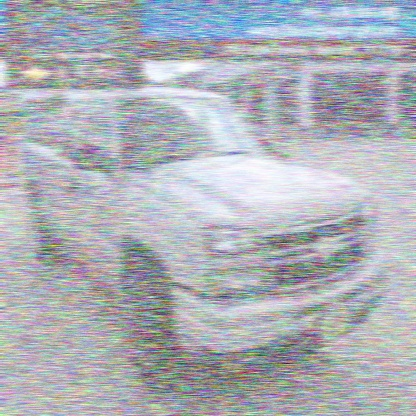Vehicle: (19, 88, 395, 399)
